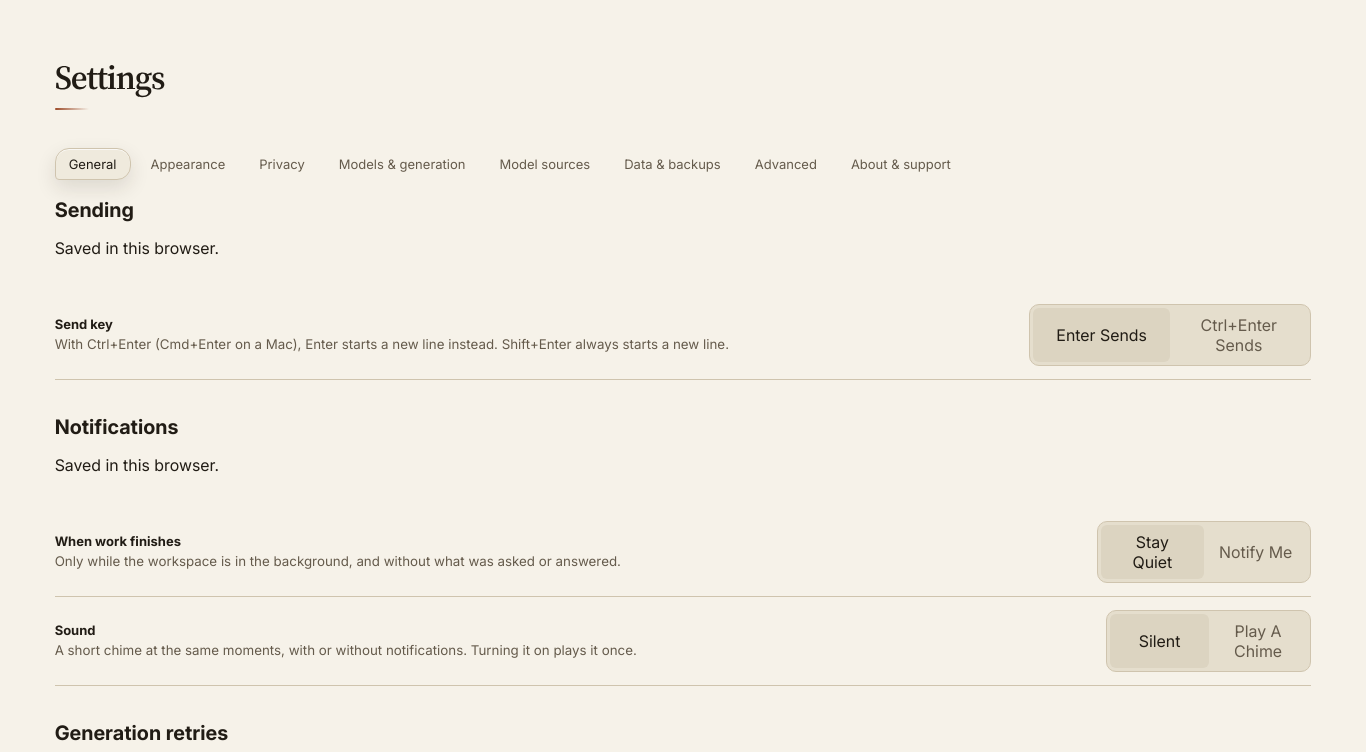
Test: shows one destination at a time
This screenshot has width=1366, height=752.
Expected: the heading "Sending" is shown, [55,198,134,222]
Expected: the heading "Recovery backups" is not shown
Click the button "Data & backups" at {"x": 672, "y": 164}, box [610,148,735,180]
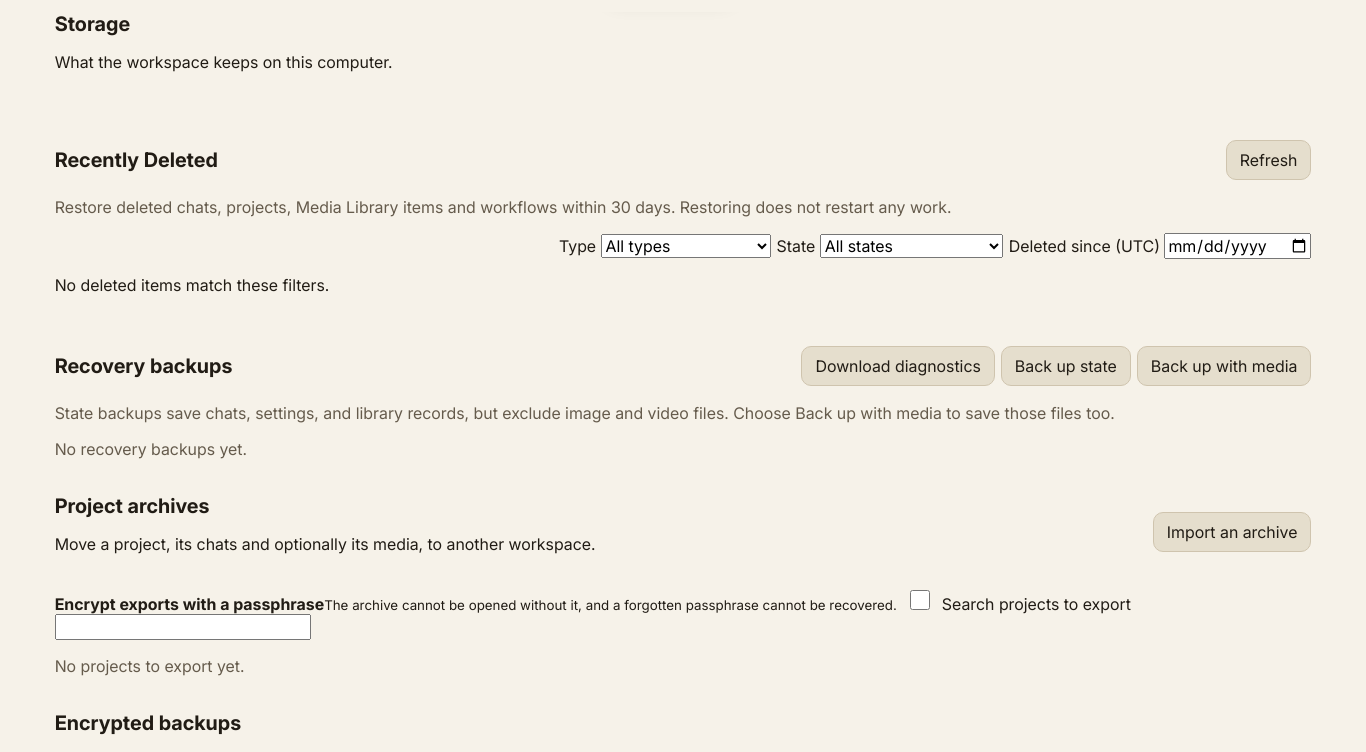
Now the heading "Recovery backups" is shown, box [55,354,232,378]
Now the heading "Project archives" is shown, box [55,494,209,518]
Now the heading "Storage" is shown, box [55,12,130,36]
